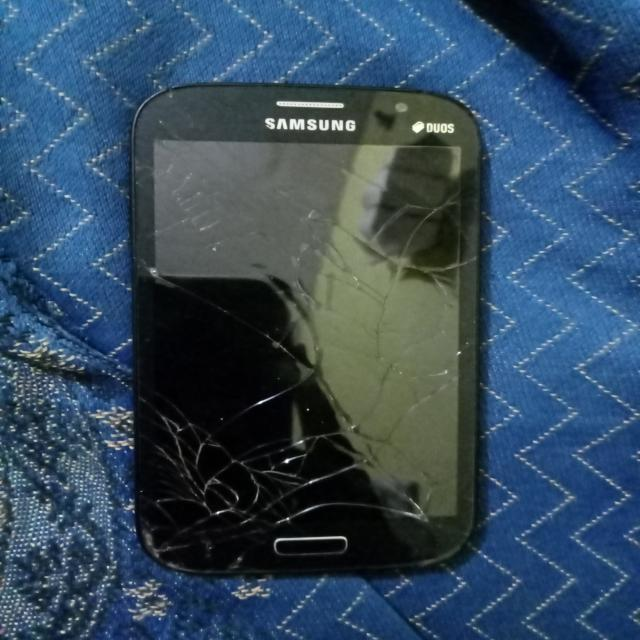screen crack: (135, 130, 477, 577)
